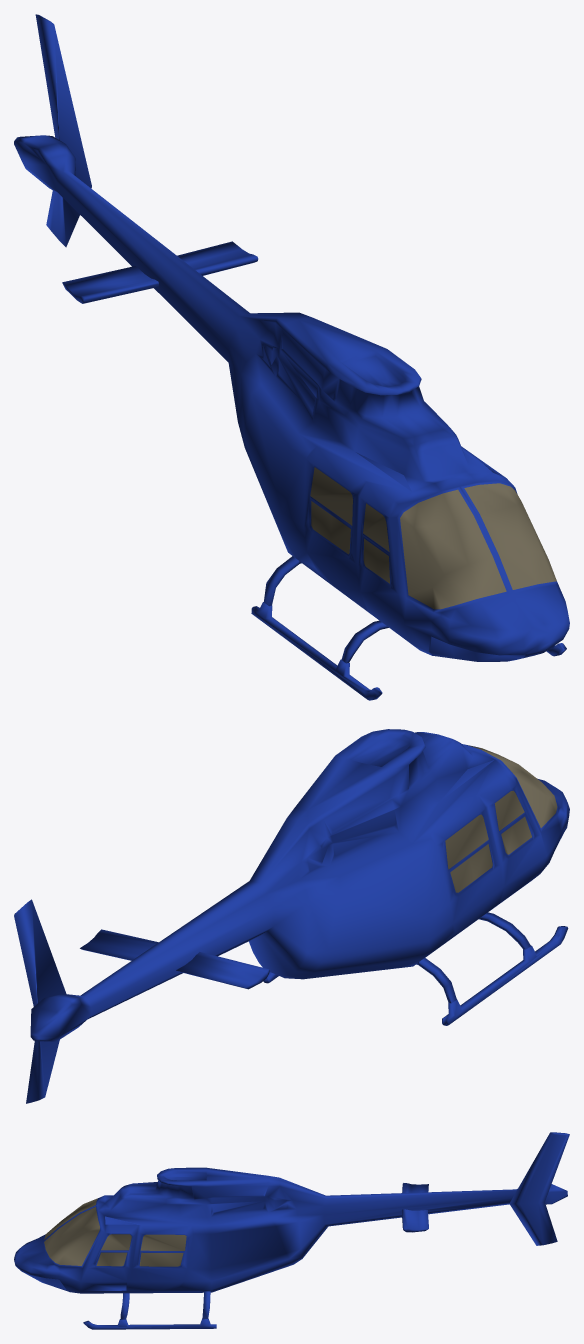
File: helicopter_main.obj
The picture shows the model from 3 angles, top to bottom: view 1: azimuth 30°, elevation 25°; view 2: azimuth 150°, elevation 25°; view 3: azimuth 270°, elevation 25°; orthographic projection. The views are drawn at different scales.
Parts seen in each view (by area): view 1: helicopter_main; view 2: helicopter_main; view 3: helicopter_main.
Part boxes in pixels (x1,y1,x2,y2): helicopter_main: [14, 14, 569, 700]; helicopter_main: [14, 729, 569, 1103]; helicopter_main: [14, 1132, 569, 1329].
Bounding box in the file's own units: 4.32 × 7.2 × 20.34.
